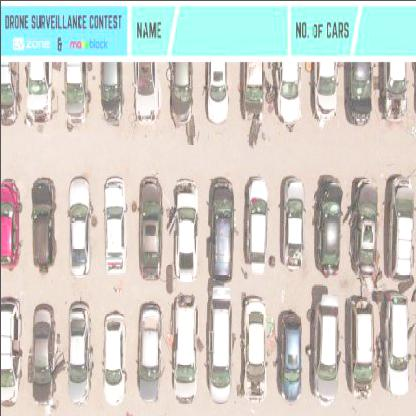car: (311, 176, 343, 273), (207, 285, 232, 406), (312, 294, 339, 405), (387, 176, 414, 282), (350, 176, 378, 277), (349, 293, 374, 402), (207, 178, 234, 278), (173, 294, 197, 405), (241, 297, 266, 402), (137, 174, 161, 281), (136, 302, 161, 400), (174, 179, 198, 281), (68, 177, 93, 274), (386, 294, 410, 395), (66, 300, 89, 405), (30, 178, 56, 270), (30, 304, 54, 402), (103, 176, 126, 275), (1, 295, 21, 407), (281, 177, 304, 271), (278, 311, 301, 404), (245, 176, 267, 273), (102, 312, 125, 404), (1, 179, 22, 268), (346, 61, 373, 124), (132, 61, 159, 123), (168, 61, 193, 125), (24, 61, 50, 121), (63, 61, 87, 126), (276, 61, 300, 124), (204, 61, 228, 122), (99, 62, 123, 123), (240, 61, 263, 121), (384, 61, 407, 121), (313, 61, 336, 120), (1, 60, 17, 126)
